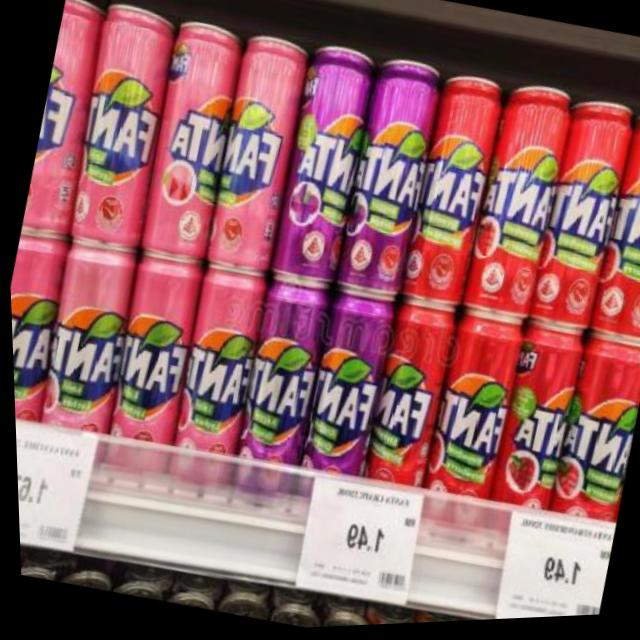Drinks: (51, 0, 187, 257), (449, 81, 580, 329), (257, 43, 384, 296), (125, 17, 253, 267), (324, 55, 449, 308), (193, 33, 318, 282), (388, 72, 513, 320), (519, 97, 640, 340), (25, 237, 144, 435), (415, 311, 526, 506), (98, 253, 207, 449), (227, 278, 336, 471), (289, 293, 398, 485), (161, 268, 270, 460), (482, 326, 588, 519), (353, 304, 459, 495), (541, 333, 640, 531), (580, 110, 640, 354), (7, 229, 75, 422)
